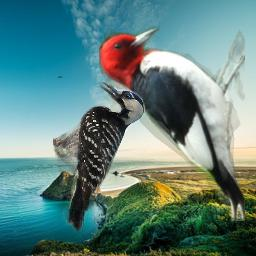Woodpecker: (99, 26, 245, 221), (53, 82, 146, 233)
